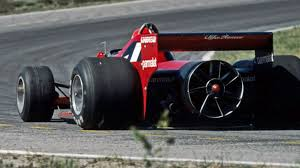f1_car: (13, 19, 300, 134)
